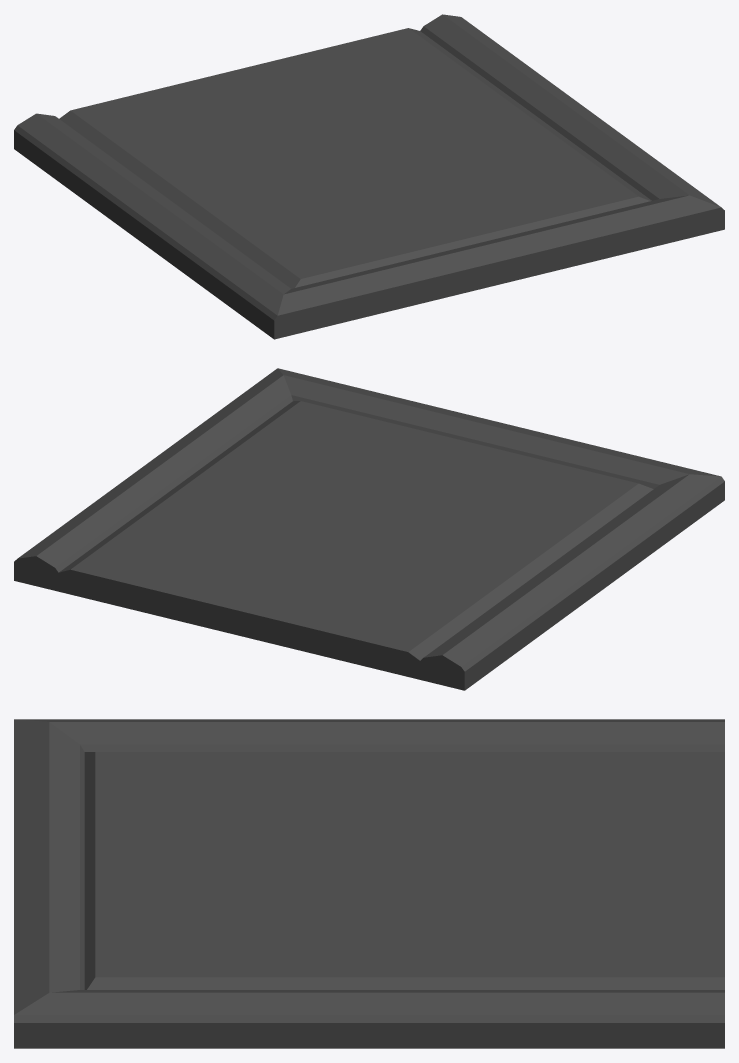
File: Dock_Platform_End_01.fbx
3 renders of one model, top to bottom at view 1: azimuth 30°, elevation 25°; view 2: azimuth 150°, elevation 25°; view 3: azimuth 270°, elevation 25°, orthographic. The views are drawn at different scales.
Visible parts, largest first — view 1: Dock_Platform_End_01; view 2: Dock_Platform_End_01; view 3: Dock_Platform_End_01.
Part boxes in pixels (x1=…): Dock_Platform_End_01: x1=14, y1=14, x2=724, y2=339; Dock_Platform_End_01: x1=14, y1=368, x2=724, y2=690; Dock_Platform_End_01: x1=14, y1=719, x2=724, y2=1048.
Bounding box in the file's own units: 250 × 15.97 × 250.
